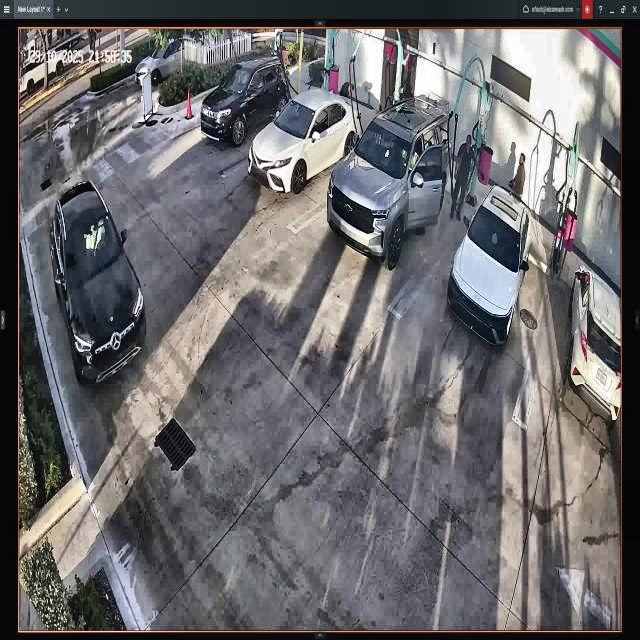Car: (328, 98, 452, 264), (450, 184, 531, 344), (250, 89, 362, 185)
